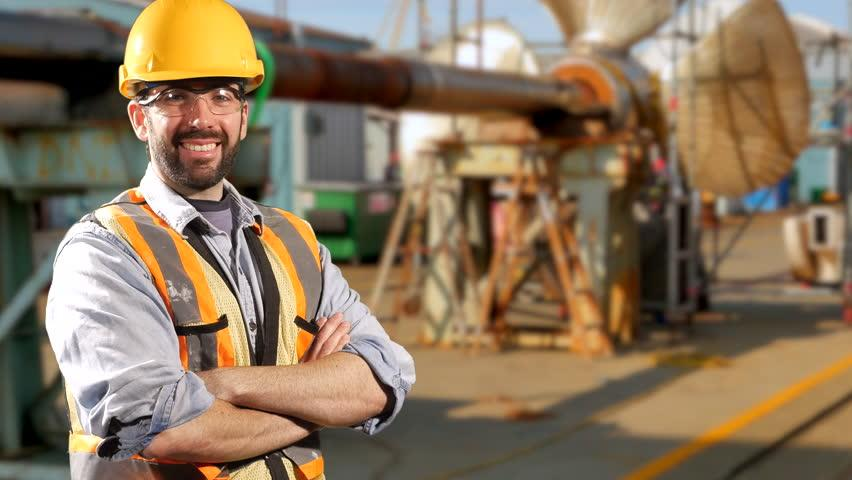helmet: (117, 1, 266, 101)
